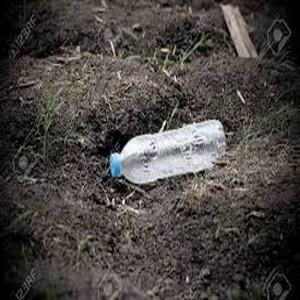Plastic: (109, 118, 227, 185)
